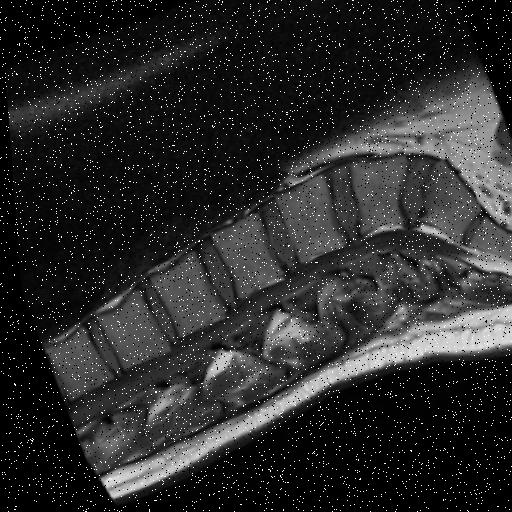L1: (91, 290, 165, 370)
L2: (145, 252, 220, 338)
L3: (208, 215, 279, 299)
L4: (272, 178, 343, 265)
L5: (348, 161, 405, 238)
S1: (412, 164, 479, 247)
